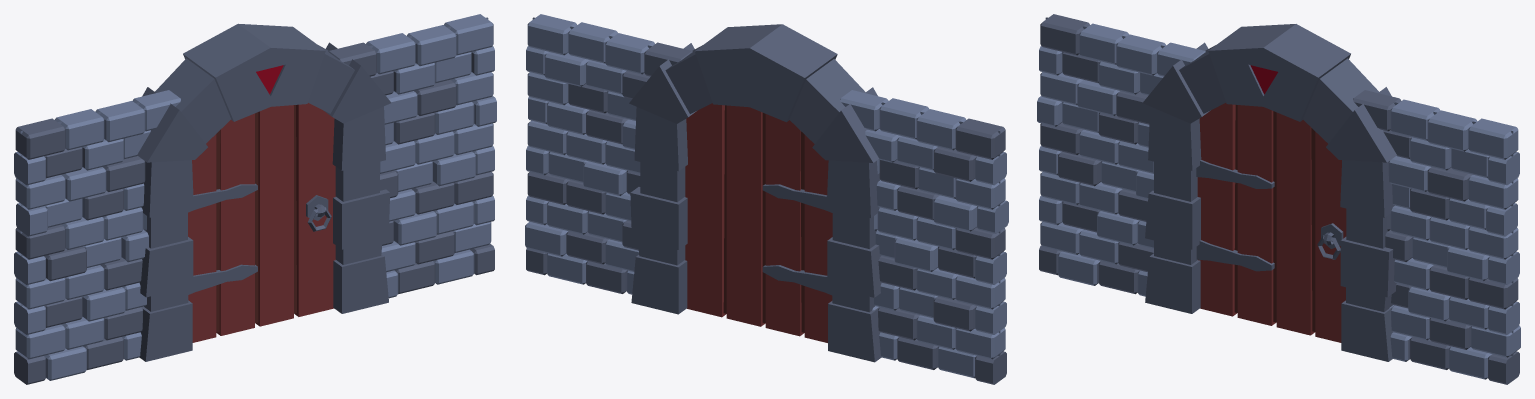
The model's file is door_wall_3.glb.
3 renders of one model, left to right at view 1: azimuth 30°, elevation 25°; view 2: azimuth 150°, elevation 25°; view 3: azimuth 330°, elevation 25°, orthographic.
Visible parts, largest first — view 1: door.002; view 2: door.002; view 3: door.002.
Boxes of the visible parts, x1,y1,x2,y2 form: door.002: (14,14,496,384); door.002: (525,14,1008,384); door.002: (1037,14,1520,384).
Bounding box in the file's own units: 6 × 3.54 × 0.7309.
